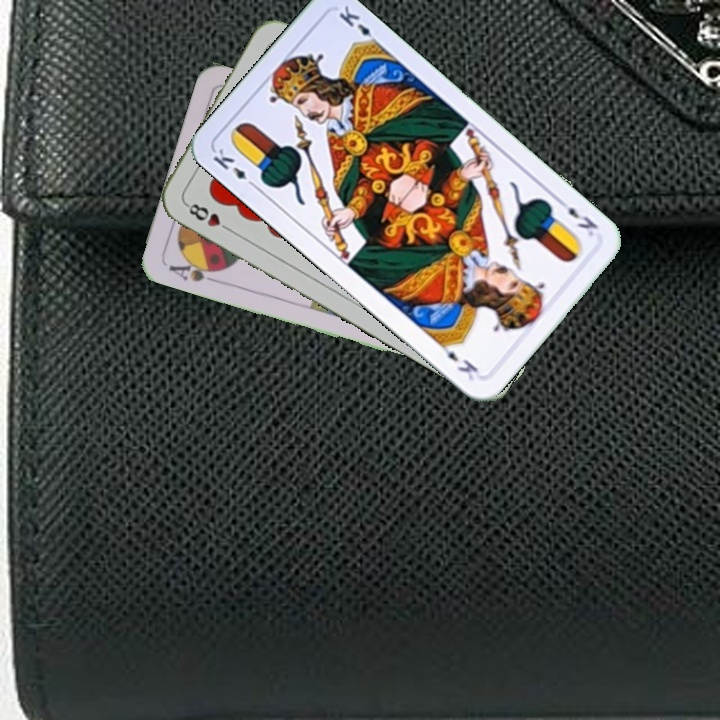EK: (208, 144, 260, 192), (553, 194, 601, 239)
H8: (181, 199, 235, 235)
SA: (164, 254, 224, 286)
